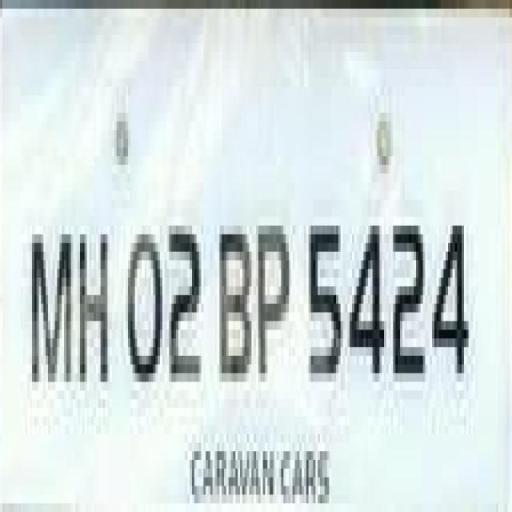number plate: (13, 9, 512, 512)
